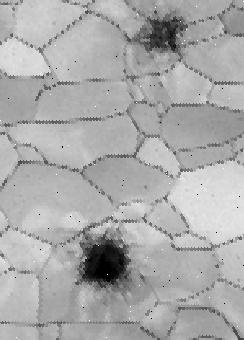good_void: (71, 222, 139, 301), (123, 3, 191, 62), (139, 270, 148, 285), (214, 261, 225, 271), (143, 184, 151, 191)
